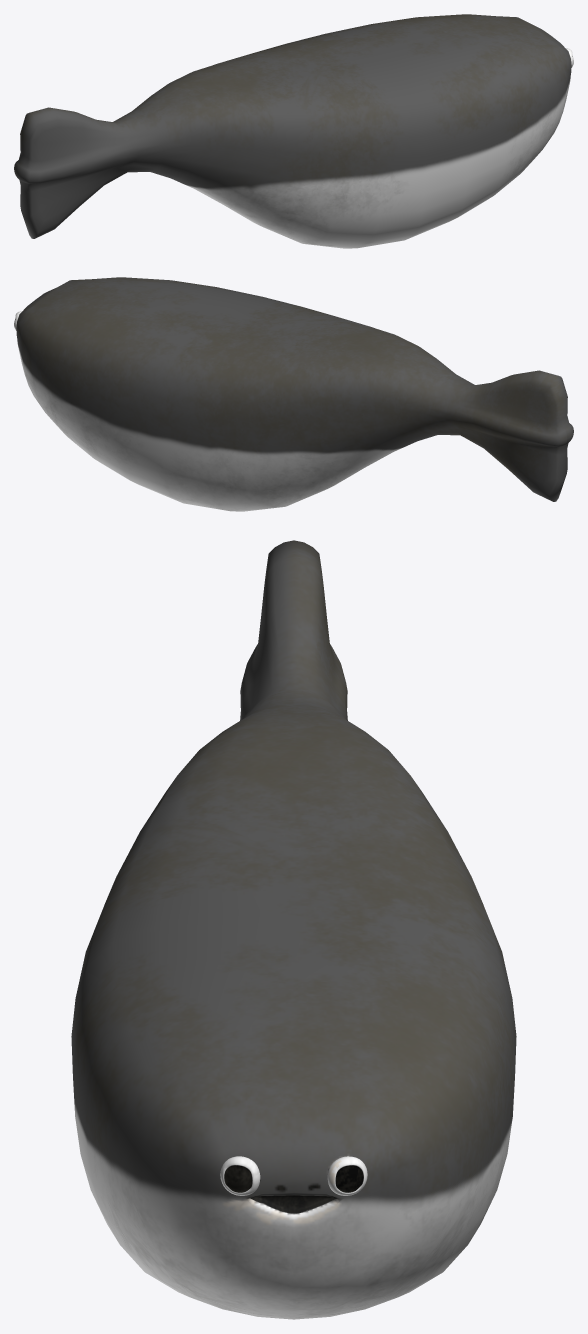
File: sacabambaspis_fish_meme_fish.glb
3 views of the same model, one above another, from view 1: azimuth 30°, elevation 25°; view 2: azimuth 150°, elevation 25°; view 3: azimuth 270°, elevation 25° (orthographic). The views are drawn at different scales.
Visible parts, largest first — view 1: Object_2; view 2: Object_2; view 3: Object_2.
Part boxes in pixels (bbox=[...]): Object_2: bbox=[14, 14, 573, 248]; Object_2: bbox=[14, 277, 573, 511]; Object_2: bbox=[71, 540, 516, 1319].
Bounding box in the file's own units: 25.71 × 9.02 × 9.13.
Materials: 1 (1 with a texture image).
